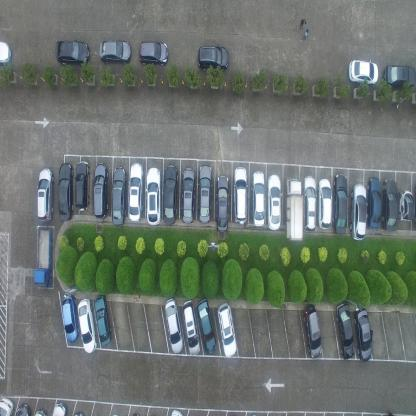car: (283, 176, 303, 242), (33, 226, 54, 288), (196, 297, 216, 355), (77, 297, 97, 354), (217, 301, 237, 357), (336, 302, 355, 359), (164, 296, 183, 353), (353, 306, 372, 362), (303, 303, 322, 358), (54, 38, 90, 67), (350, 183, 368, 241), (382, 62, 416, 92), (182, 299, 200, 355), (36, 166, 54, 222), (111, 164, 127, 226), (58, 160, 74, 221), (162, 164, 178, 224), (333, 172, 348, 235), (94, 295, 112, 347), (93, 162, 109, 220), (128, 162, 143, 223), (146, 165, 161, 226), (198, 163, 213, 223), (266, 172, 281, 232), (348, 57, 379, 86), (99, 39, 132, 66), (233, 166, 248, 225), (61, 294, 79, 343), (215, 174, 230, 232), (197, 45, 229, 72), (138, 39, 169, 66), (303, 174, 317, 233), (74, 160, 90, 211), (251, 171, 265, 228), (181, 166, 195, 223), (317, 178, 332, 230), (382, 177, 396, 231), (367, 177, 381, 230), (400, 187, 416, 221), (0, 37, 12, 67), (51, 400, 68, 416), (0, 396, 14, 415), (15, 401, 32, 415)
